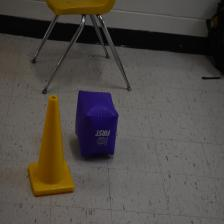cone: (28, 94, 75, 197)
cube: (75, 90, 119, 157)
